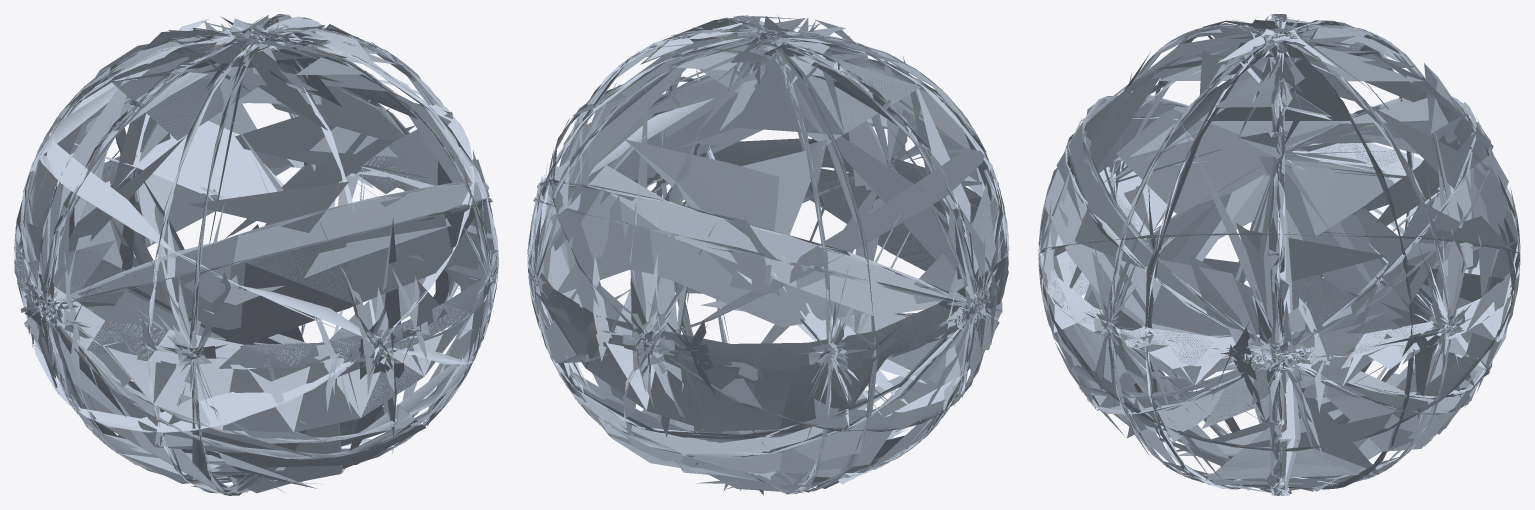
Rendered from dsf.glb.
3 views of the same model, side by side, from view 1: azimuth 30°, elevation 25°; view 2: azimuth 150°, elevation 25°; view 3: azimuth 270°, elevation 25° (orthographic).
Visible parts, largest first — view 1: TS-dsf-structural; view 2: TS-dsf-structural; view 3: TS-dsf-structural.
Part boxes in pixels (x1=…): TS-dsf-structural: x1=14, y1=14, x2=498, y2=495; TS-dsf-structural: x1=527, y1=15, x2=1009, y2=495; TS-dsf-structural: x1=1038, y1=14, x2=1520, y2=495.
Bounding box in the file's own units: 2 × 2 × 2.
